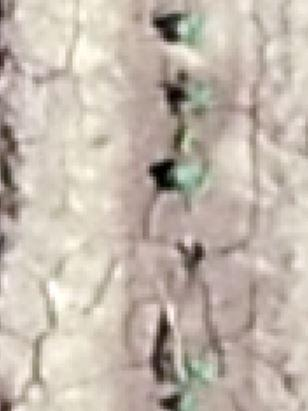cotton: (173, 166, 207, 192), (180, 17, 203, 45), (189, 358, 212, 381), (191, 83, 212, 107), (181, 393, 197, 411)
